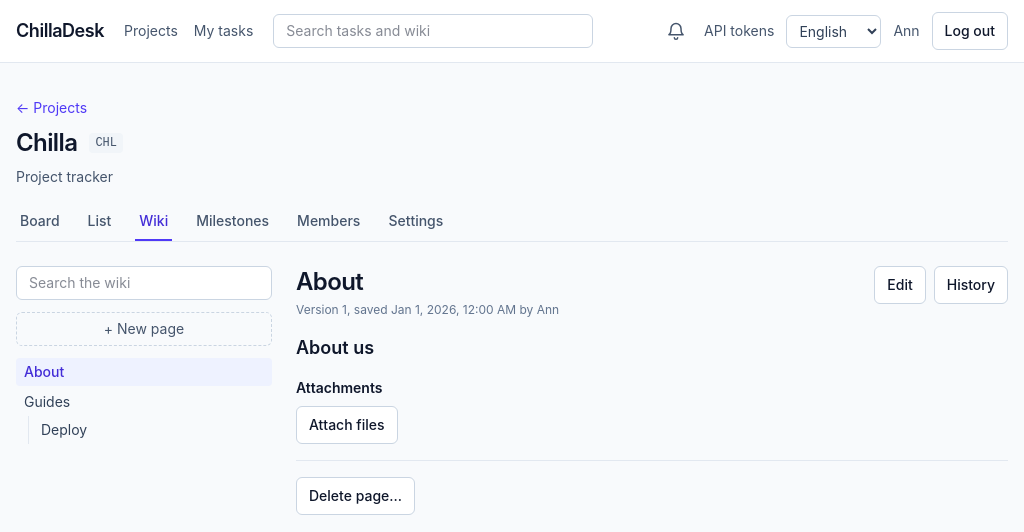
wiki navigation › searches titles and content
Type "docker" into the search field labelled "Search the wiki".
click(144, 283); type("docker")  # box [16,266,272,300]
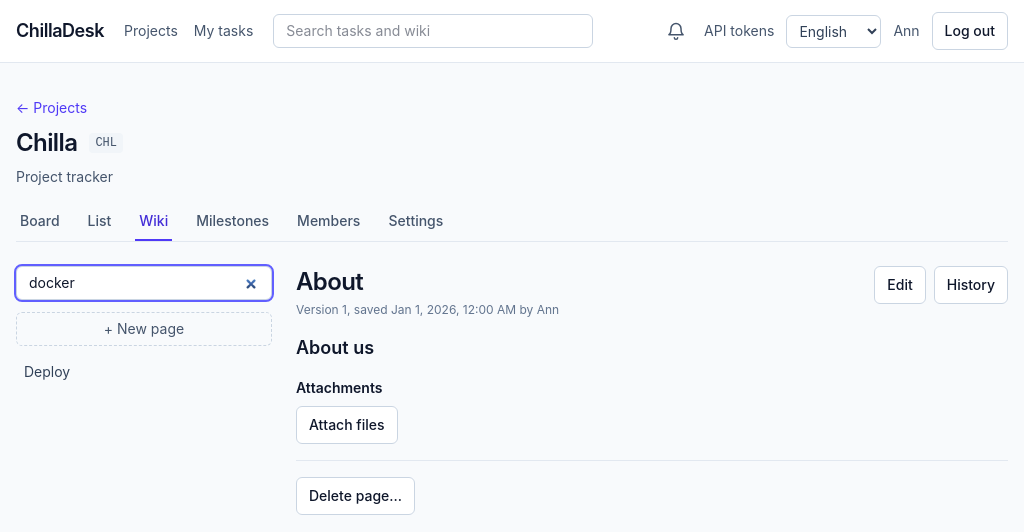
Expected: the links read "Deploy", in this order, [24,363,70,380]
Replace the text in the search field named "Search the wiki" with "zzz" at (144, 283), box [16,266,272,300]
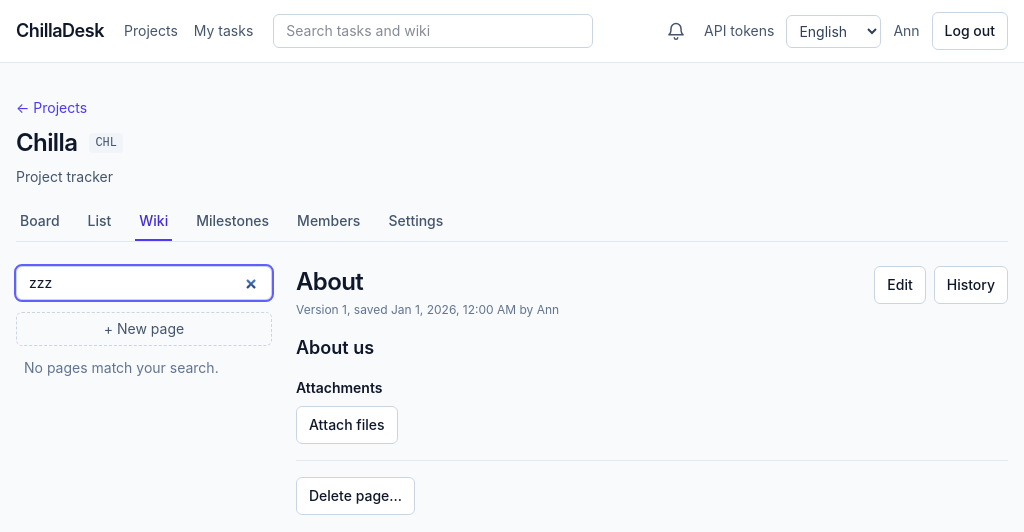
Expected: the text "No pages match your search." is shown, [24,359,219,376]
